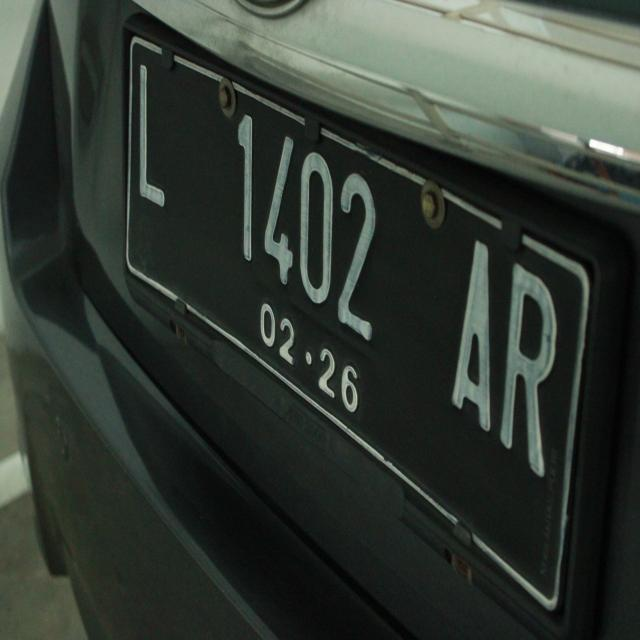0: (298, 138, 339, 311)
1: (221, 92, 266, 274)
2: (328, 148, 381, 358)
4: (254, 112, 300, 294)
A: (430, 194, 497, 452)
L: (118, 41, 180, 218)
R: (492, 238, 560, 502)
